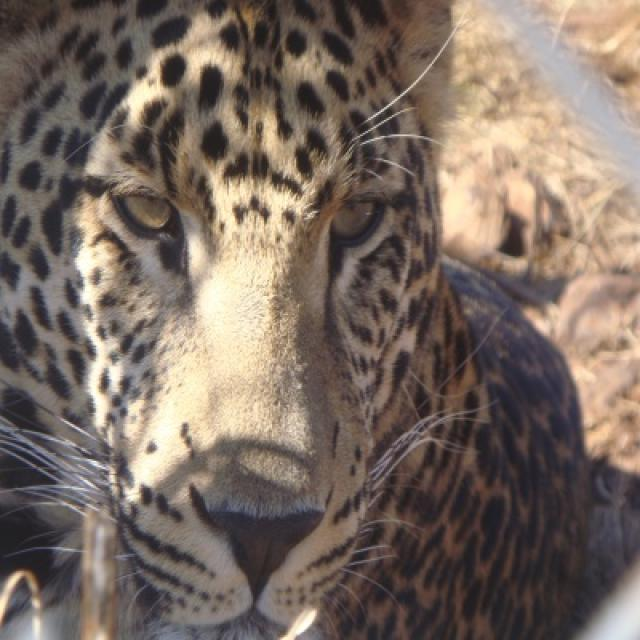Jaguar: (4, 4, 594, 637)
